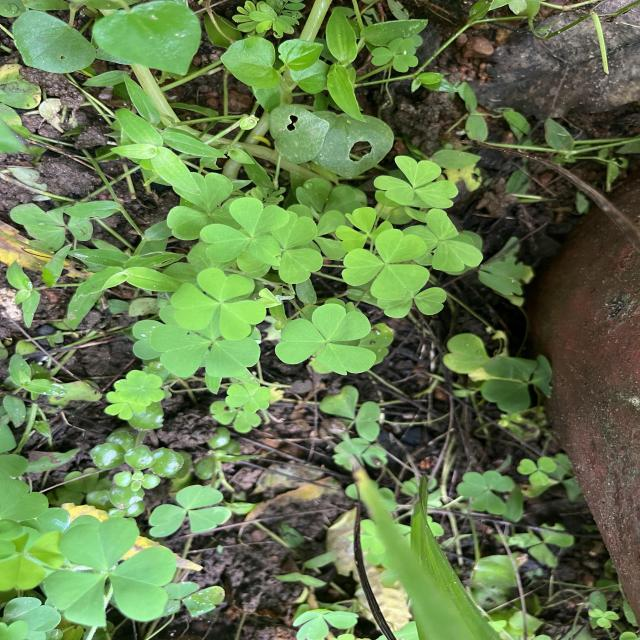Oxalis corniculata: (40, 516, 178, 628), (274, 303, 378, 377), (170, 267, 268, 342), (340, 228, 430, 300), (200, 196, 291, 266), (150, 330, 262, 380), (372, 155, 459, 209), (148, 484, 233, 538), (334, 206, 394, 253), (456, 470, 515, 515), (113, 370, 166, 406), (370, 36, 419, 74), (225, 382, 272, 414), (516, 456, 558, 486)
